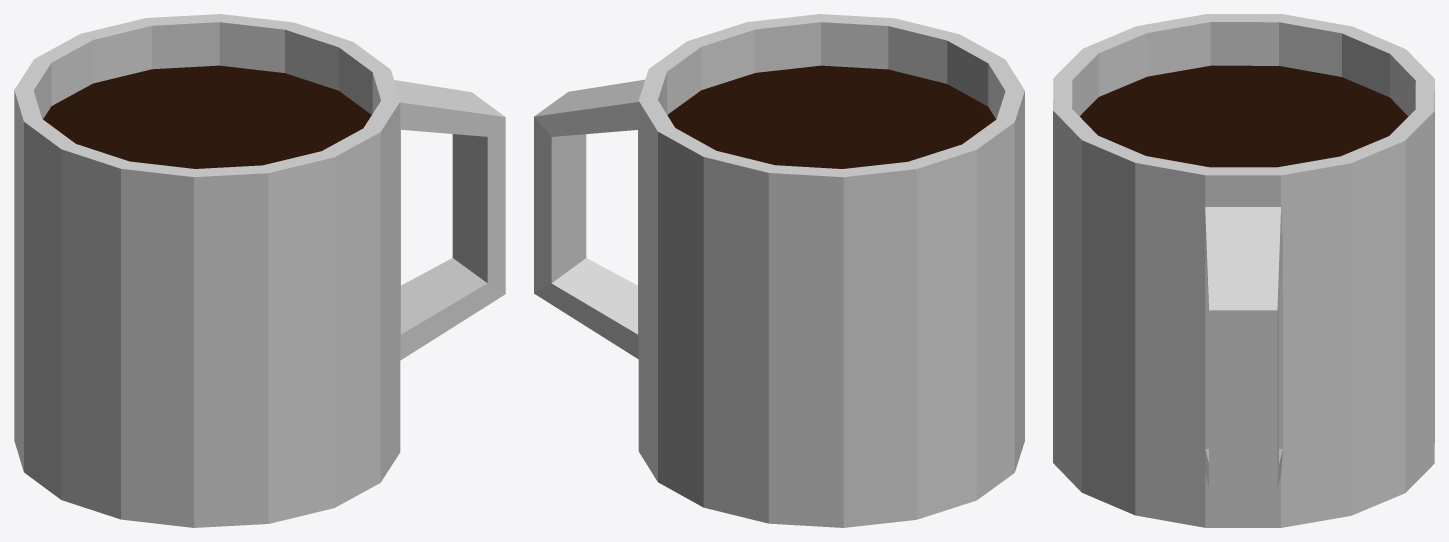
File: mug.glb
3 renders of one model, left to right at view 1: azimuth 30°, elevation 25°; view 2: azimuth 150°, elevation 25°; view 3: azimuth 270°, elevation 25°, orthographic.
Parts seen in each view (by area): view 1: Cylinder; view 2: Cylinder; view 3: Cylinder.
Part boxes in pixels (x1,y1,x2,y2): Cylinder: (14, 14, 505, 527); Cylinder: (534, 14, 1024, 527); Cylinder: (1053, 14, 1434, 527).
Size of the model in its own units: 1377 by 1035 by 1016.
